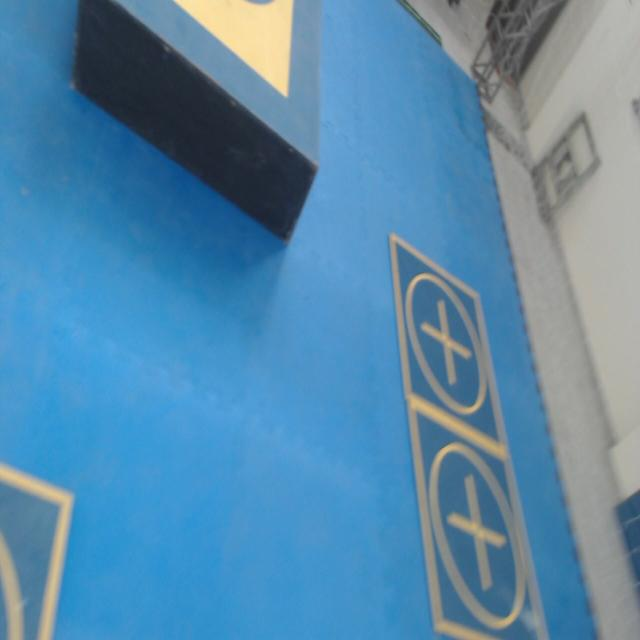base_inicio: (172, 0, 294, 100)
base_pouso: (407, 400, 550, 639), (388, 235, 510, 454), (0, 464, 77, 639)
